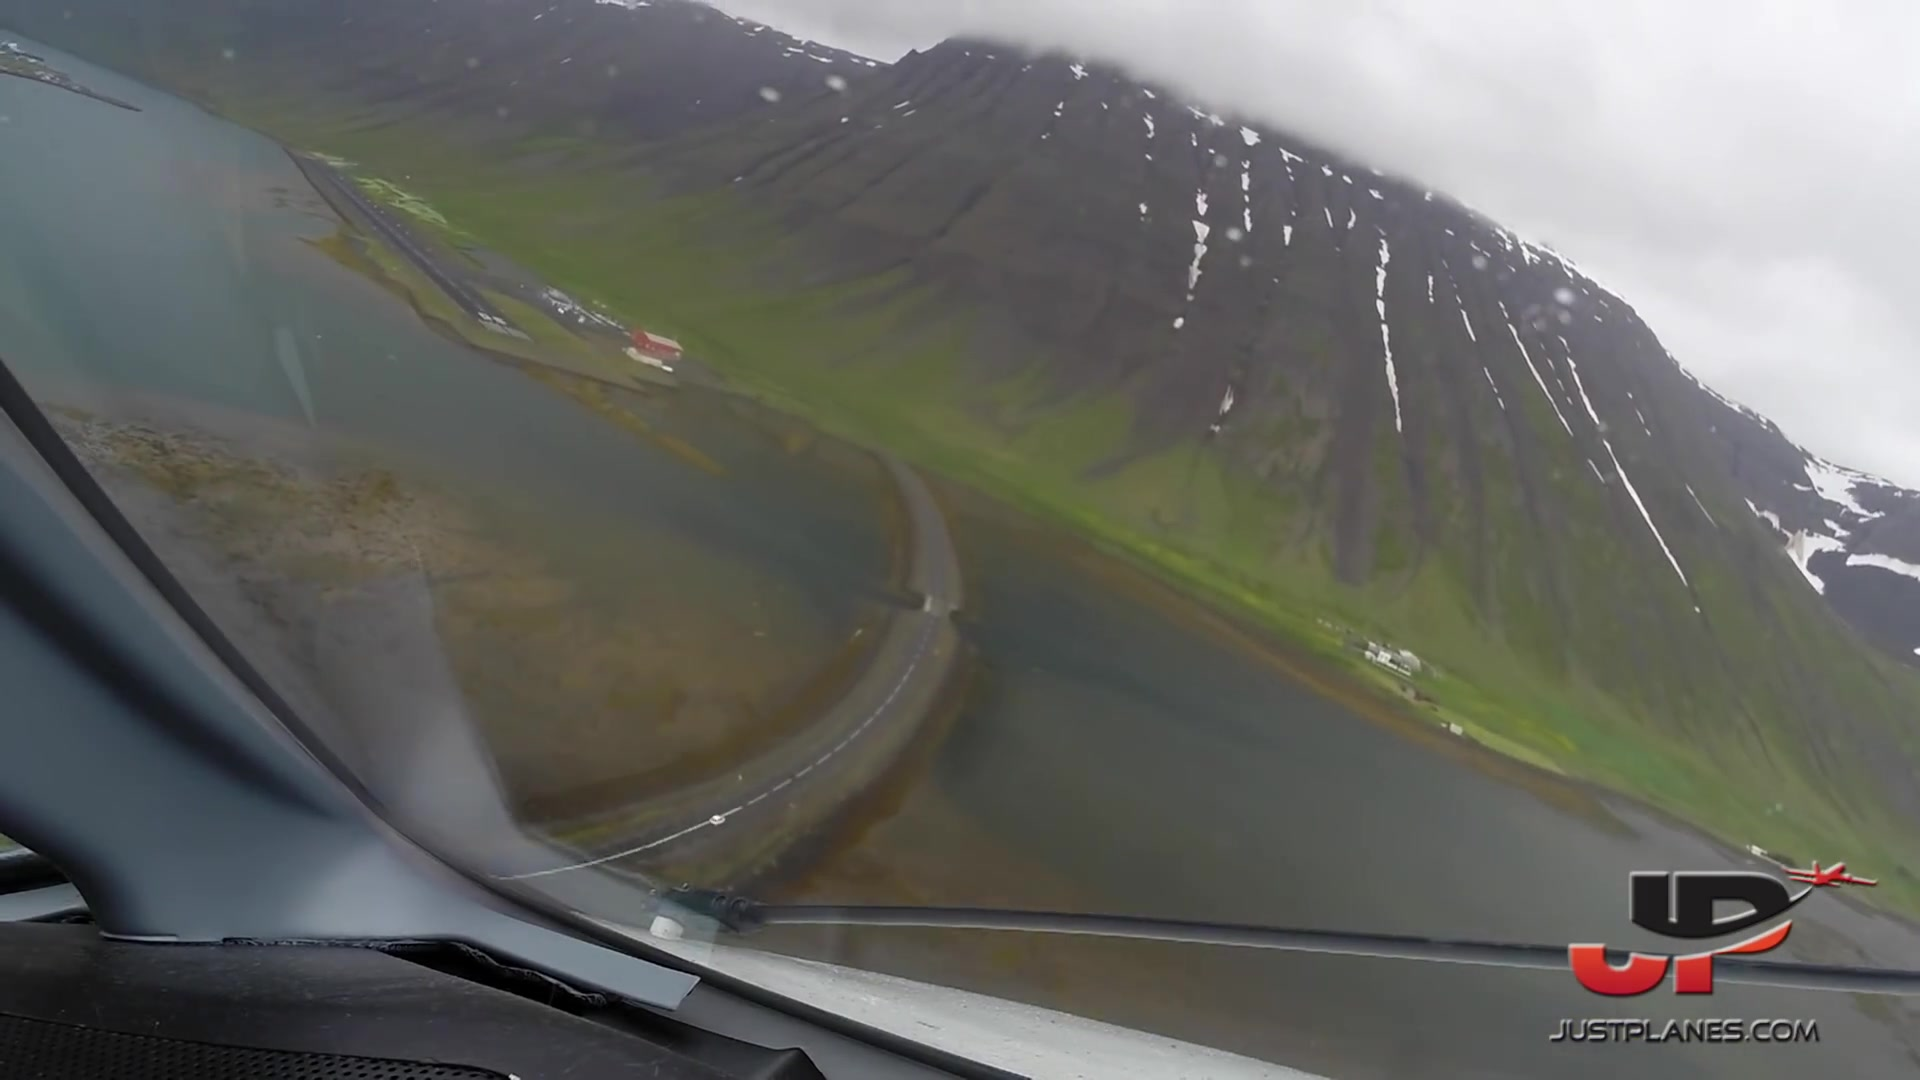runway: (328, 179, 531, 342)
